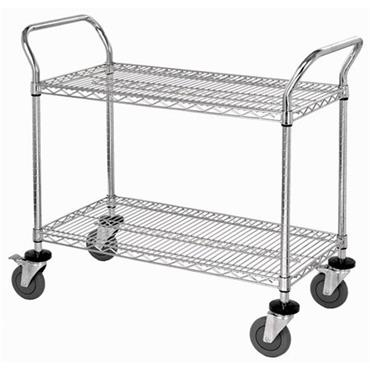Carts: (8, 14, 364, 359)
